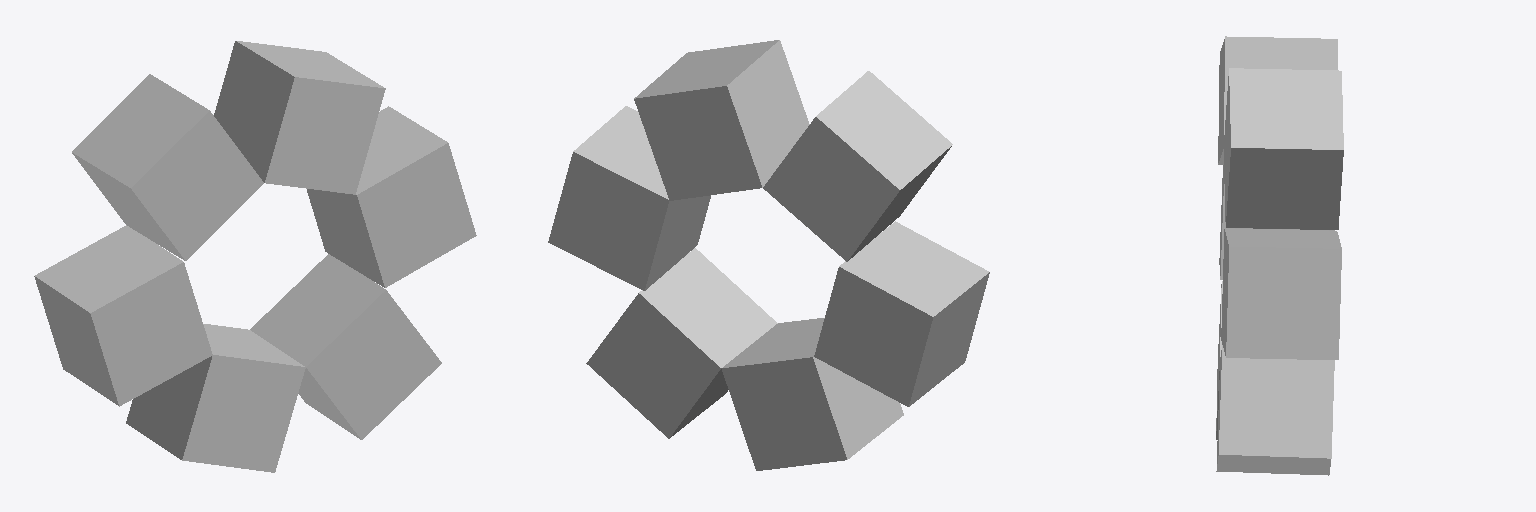
The model's file is bullet.obj.
The picture shows the model from 3 angles: view 1: azimuth 30°, elevation 25°; view 2: azimuth 150°, elevation 25°; view 3: azimuth 270°, elevation 25°; orthographic projection.
Parts seen in each view (by area): view 1: Cube.004_Cube.005, Cube.002_Cube.003, Cube, Cube.003_Cube.004, Cube.001_Cube.002, Cube.005_Cube.006; view 2: Cube.004_Cube.005, Cube, Cube.002_Cube.003, Cube.003_Cube.004, Cube.001_Cube.002, Cube.005_Cube.006; view 3: Cube, Cube.001_Cube.002, Cube.003_Cube.004, Cube.002_Cube.003.
Boxes of the visible parts, <box> form: Cube.004_Cube.005: <box>34,225,212,406</box>; Cube.002_Cube.003: <box>72,74,263,260</box>; Cube: <box>214,41,385,194</box>; Cube.003_Cube.004: <box>250,254,441,439</box>; Cube.001_Cube.002: <box>307,106,476,287</box>; Cube.005_Cube.006: <box>126,324,305,472</box>; Cube.004_Cube.005: <box>814,221,989,406</box>; Cube: <box>634,40,809,200</box>; Cube.002_Cube.003: <box>763,71,952,261</box>; Cube.003_Cube.004: <box>586,248,777,438</box>; Cube.001_Cube.002: <box>548,106,710,290</box>; Cube.005_Cube.006: <box>721,318,903,470</box>; Cube: <box>1224,68,1343,229</box>; Cube.001_Cube.002: <box>1221,228,1341,359</box>; Cube.003_Cube.004: <box>1216,345,1334,475</box>; Cube.002_Cube.003: <box>1218,36,1337,164</box>.
Bounding box in the file's own units: 0.3115 × 0.2985 × 0.089.